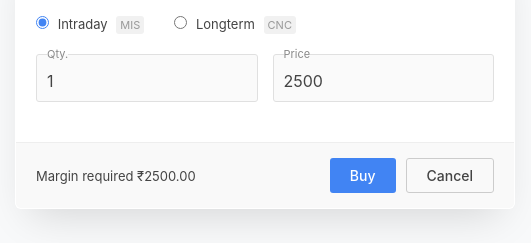
BuyActionWindow component › displays error when quantity is invalid
Step 1. Replace the text in the number field below "Qty." with "0" → (147, 81), box [47,66,246,96]
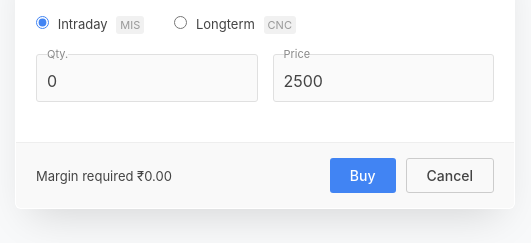
Step 2. Click the button "Buy" → (363, 176), box [330,158,396,193]
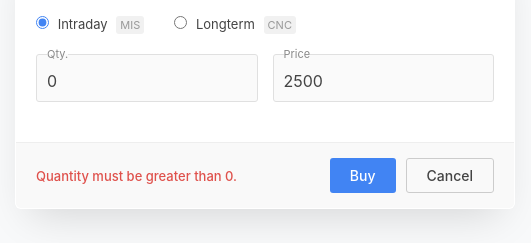
Now the text "Quantity must be greater than 0." is shown, box [36,168,237,184]
